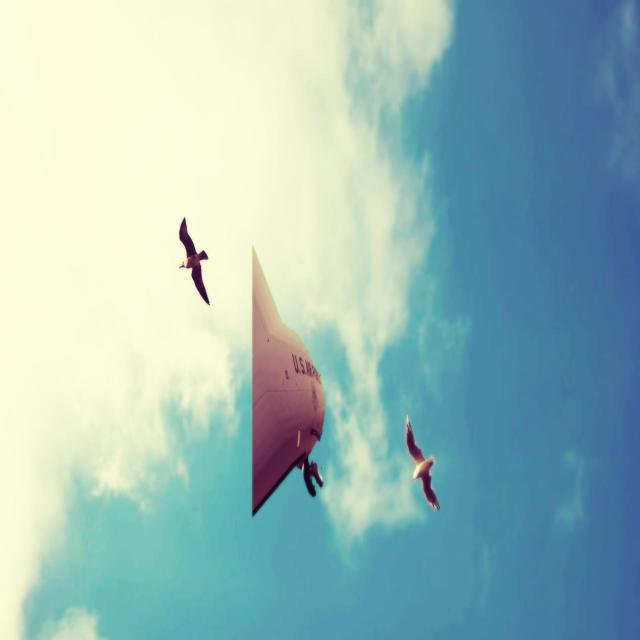airplane: (251, 244, 325, 516)
